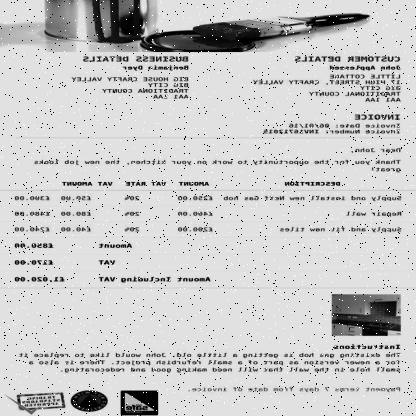Paragraph: (15, 342, 406, 374), (31, 147, 403, 173), (9, 240, 214, 284), (250, 54, 404, 104), (70, 54, 192, 100), (261, 112, 403, 136), (184, 385, 404, 393)
Table: (8, 178, 410, 236)
